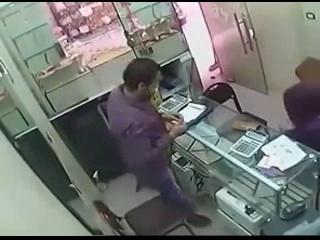Normal: (106, 57, 211, 227)
